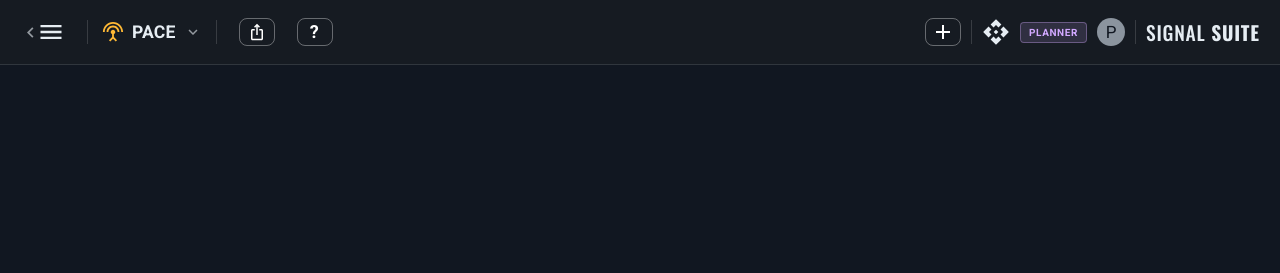
it: Header CSV controls › shapes the page menu and the Add cluster for a planner
The image size is (1280, 273).
Step 1. Click the button named "add" → (943, 32), box [925,18,961,46]
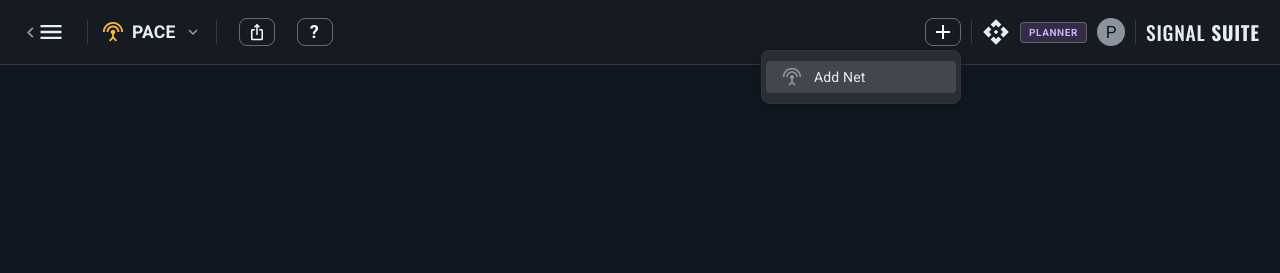
Step 2. Press Escape
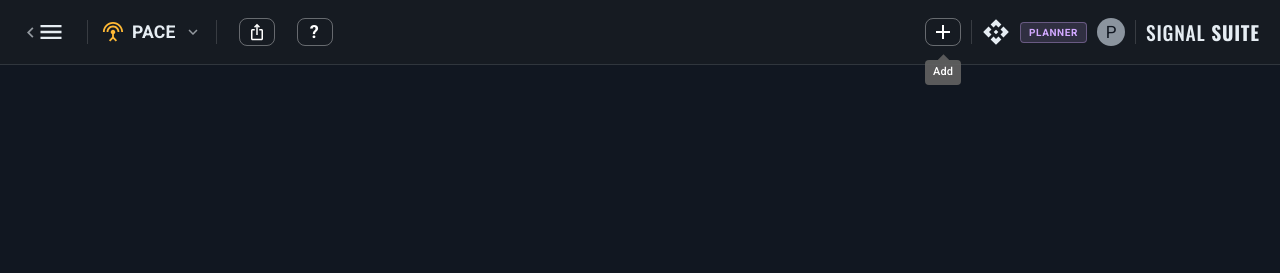
Step 3. Click the button named "import and export" → (256, 32), box [238,18,274,46]
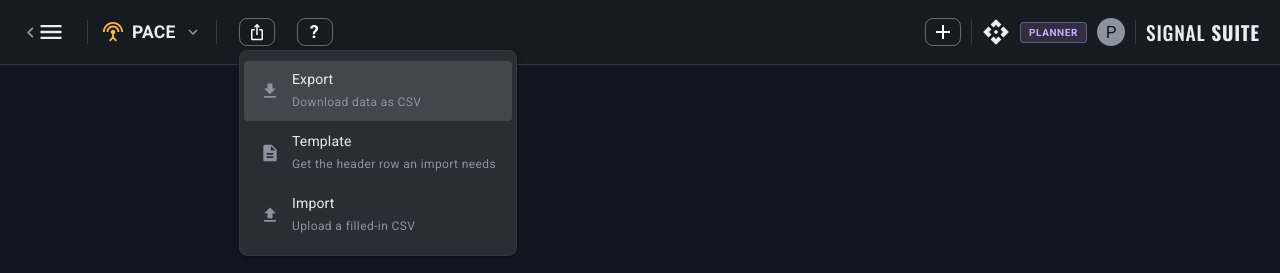
Step 4. Press Escape
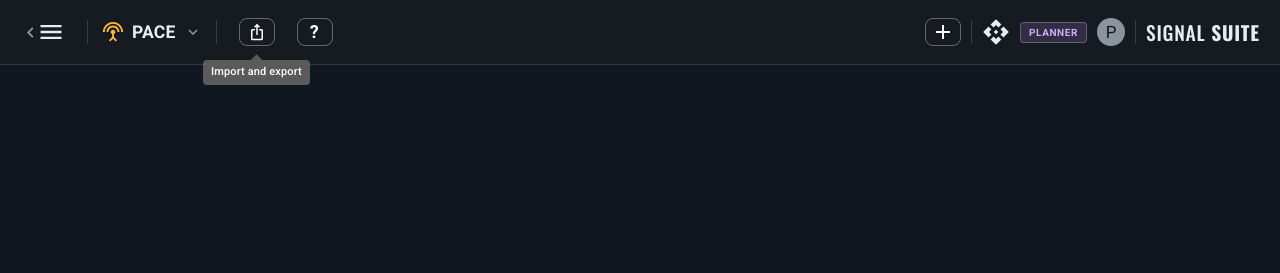
Step 5. Click the button "PACE" → (152, 32), box [102,13,202,51]
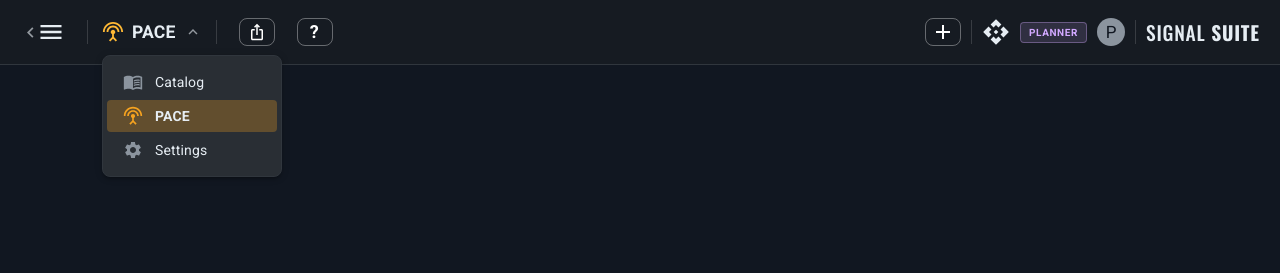
Expected: the menu item "Catalog" is shown, [123,72,204,92]
Expected: the menu item "PACE" is shown, [107,100,277,132]
Expected: the menu item "Settings" is shown, [123,140,207,160]
